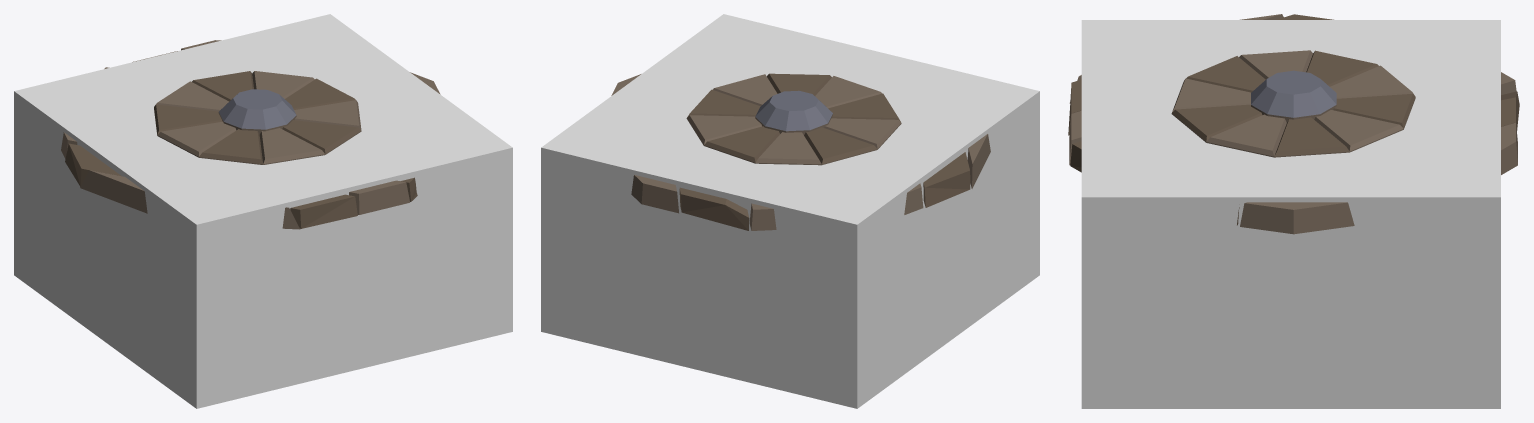
The model's file is orc_war_table.glb.
The picture shows the model from 3 angles, left to right: view 1: azimuth 30°, elevation 25°; view 2: azimuth 150°, elevation 25°; view 3: azimuth 270°, elevation 25°; orthographic projection. The views are drawn at different scales.
Parts seen in each view (by area): view 1: Cube, table; view 2: Cube, table; view 3: Cube, table.
Boxes of the visible parts, x1=… form: Cube: x1=14, y1=14, x2=512, y2=408; table: x1=61, y1=40, x2=440, y2=229; Cube: x1=541, y1=14, x2=1039, y2=408; table: x1=611, y1=73, x2=990, y2=230; Cube: x1=1081, y1=20, x2=1500, y2=408; table: x1=1068, y1=14, x2=1519, y2=234.
Size of the model in its own units: 5.18 by 2.85 by 4.95.
1 material, 1 textured.
